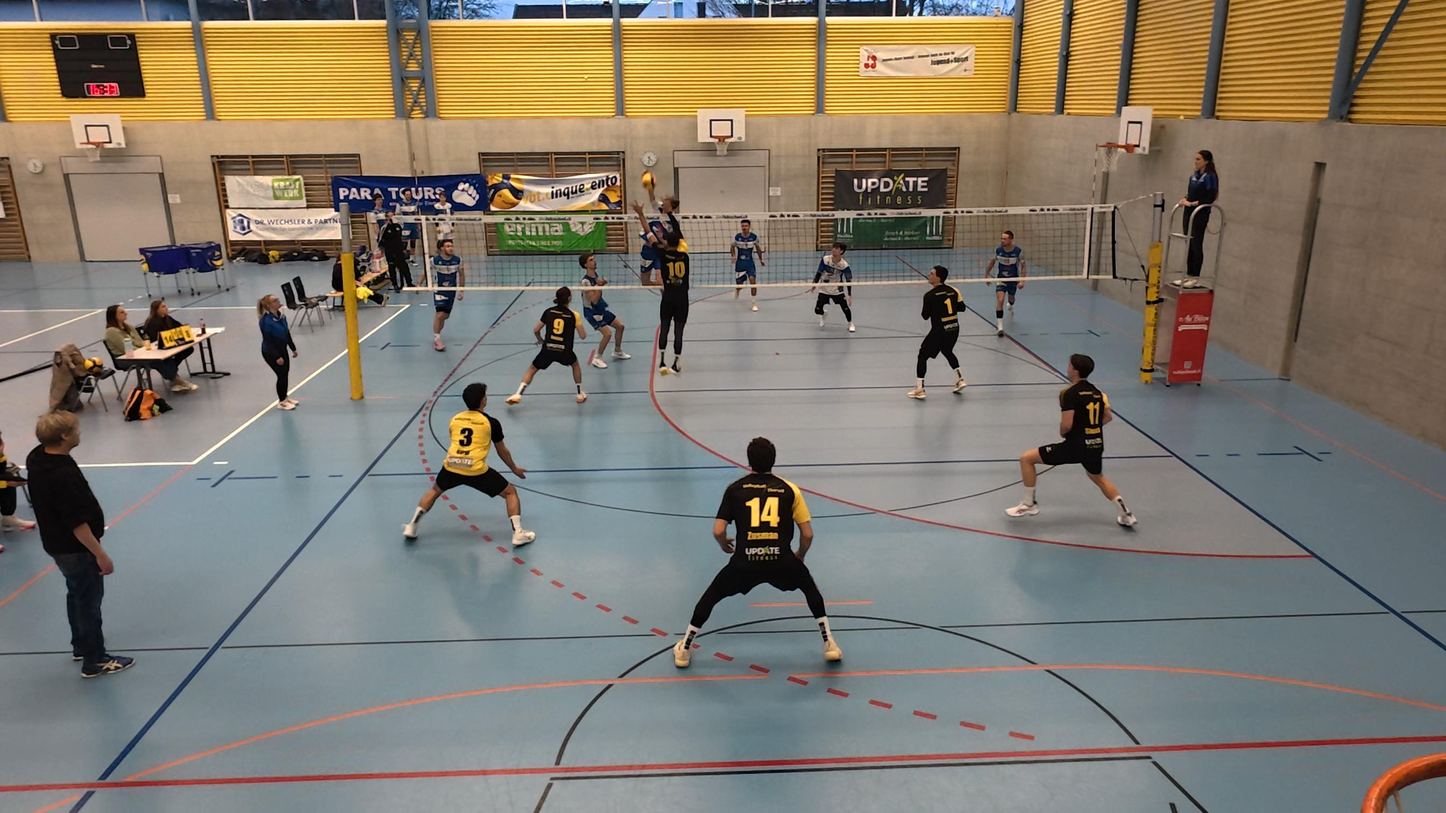Attack: (631, 165, 683, 295)
Block: (648, 198, 698, 377)
Player: (671, 437, 842, 666), (1008, 353, 1139, 529), (403, 383, 537, 548), (507, 288, 591, 408), (908, 266, 967, 401), (575, 251, 627, 362), (812, 239, 860, 335), (988, 229, 1026, 336), (429, 233, 462, 352), (728, 220, 764, 311)
ball: (637, 168, 658, 189)
